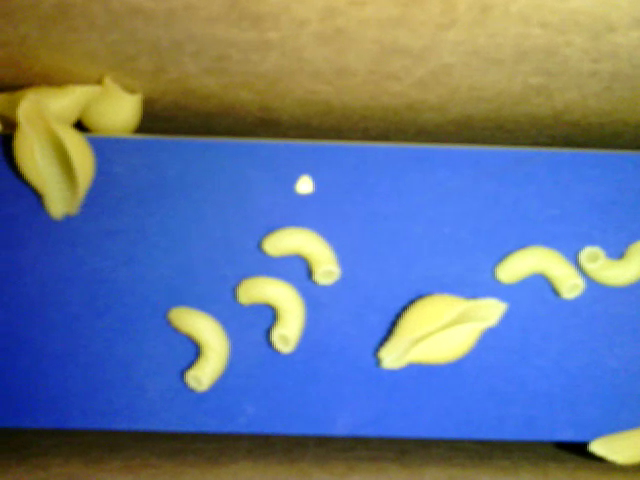elbow: (166, 303, 229, 397), (235, 274, 307, 354), (261, 224, 343, 287), (495, 245, 587, 300), (575, 239, 639, 291)
penne: (584, 427, 639, 467)
shell: (7, 89, 97, 221), (375, 291, 501, 376), (1, 78, 102, 137), (87, 73, 144, 142)
